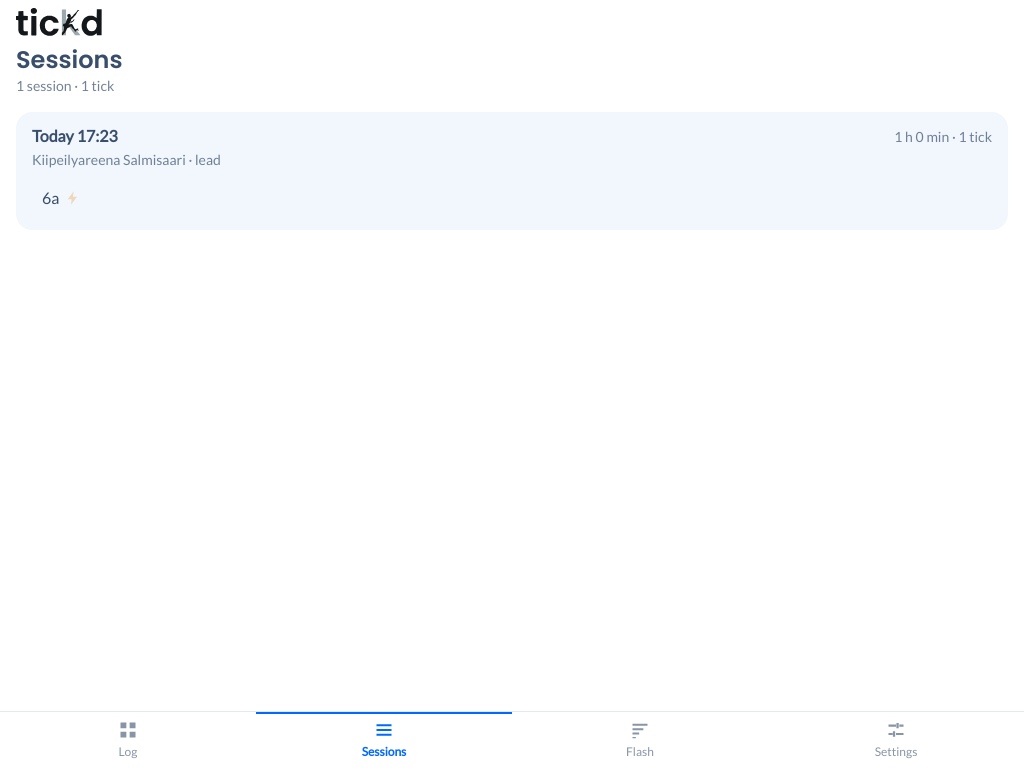
opening a session › opens a closed session detail
Expected: the element that starts with "Sessions" is shown, [16,43,1008,230]
Click the link that starts with "Today": (53, 136) [16,112,1008,230]
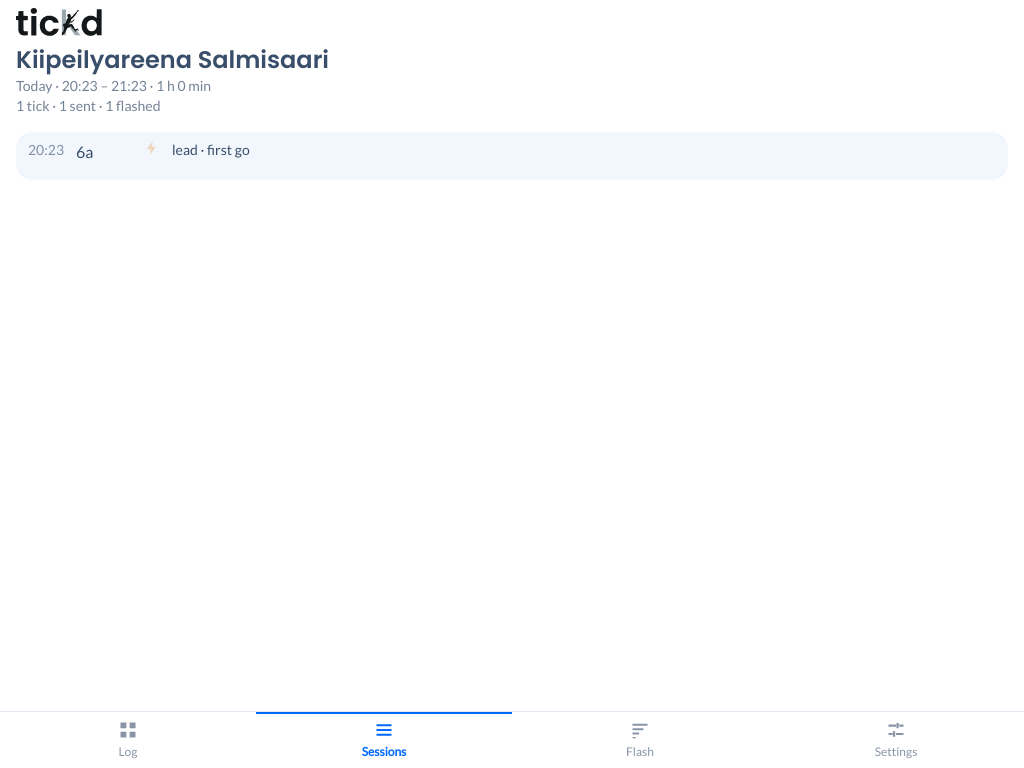
Now the heading "Kiipeilyareena Salmisaari" is shown, box [16,43,329,76]
Now the list named "Goes" is shown, box [16,132,1008,180]
